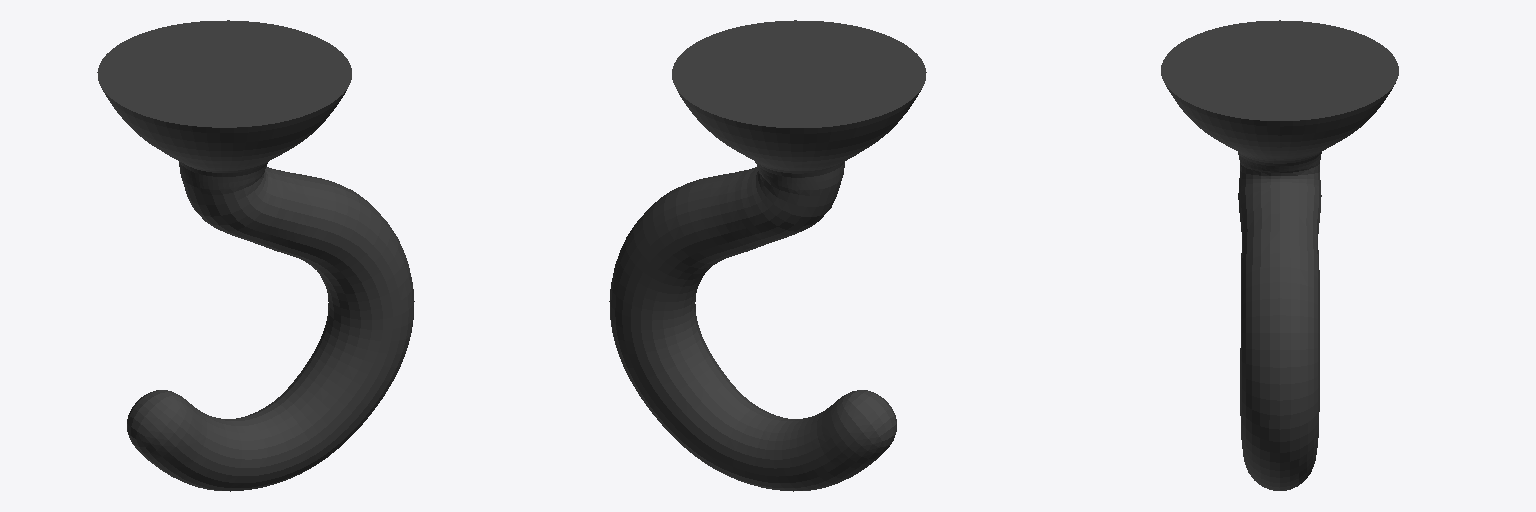
The robot description file, URDF, robot "test_gripper":
<?xml version="1.0"?>
<robot name="test_gripper" xmlns:xacro="http://www.ros.org/wiki/xacro">

  <link name="world" />

  <joint name="joint" type="prismatic">
    <origin xyz="0 0 0" rpy="3.14 0 0" />
    <parent link="world" />
    <child link="gripper" />
    <axis xyz="0 0 1" />
    <limit effort="300" velocity="1.0" lower="-1" upper="1" />
    <dynamics damping="0.0" />
  </joint>

  <link name="gripper">
    <inertial>
      <origin xyz="0 0 0" rpy="0 0 0" />
      <mass value="1" />
      <inertia ixx="0.01" ixy="0" ixz="0" iyy="0.01" iyz="0" izz="0.01" />
    </inertial>
    <visual>
      <origin xyz="0 0 0" rpy="0 0 0" />
      <geometry>
        <!-- <cylinder radius="0.05" length="0.1" /> -->
        <mesh filename="package://hook_gripper_gazebo/meshes/hook_gripper.dae"/>
      </geometry>
      <material name="Grey">
        <color rgba="0.3 0.3 0.3 1.0" />
      </material>
    </visual>
    <collision>
      <origin xyz="0 0 0" rpy="0 0 0" />
      <geometry>
        <!-- <cylinder radius="0.05" length="0.1" /> -->
        <mesh filename="package://hook_gripper_gazebo/meshes/hook_gripper.dae"/>
      </geometry>
    </collision>
  </link>

  <transmission name="trans">
    <type>transmission_interface/SimpleTransmission</type>
    <joint name="joint">
      <hardwareInterface>hardware_interface/PositionJointInterface</hardwareInterface>
    </joint>
    <actuator name="motor">
      <mechanicalReduction>1</mechanicalReduction>
    </actuator>
  </transmission>

  <gazebo reference="gripper">
    <material>Gazebo/Green</material>
    <mu1>0.0</mu1>
    <mu2>0.0</mu2>
    <kp>0</kp>
    <kd>0</kd>
  </gazebo>


  <gazebo>
    <plugin name="hook_gripper" filename="libhook_gripper_gazebo.so">
      <gripper_robot_name>test_gripper</gripper_robot_name>
      <gripper_link_name>gripper</gripper_link_name>
      <objects_robot_name>box</objects_robot_name>
      <objects_link_name>box1</objects_link_name>
      <min_collision_depth>0.001</min_collision_depth>
    </plugin>
  </gazebo>

  <gazebo>
    <plugin name="ros_control" filename="libgazebo_ros_control.so">
      <robotParam>robot_description</robotParam>
    </plugin>
  </gazebo>

</robot>

--- Facts derived from the render (not from the file) ---
3 views of the same robot in one strip: view 1: azimuth 30°, elevation 25°; view 2: azimuth 150°, elevation 25°; view 3: azimuth 270°, elevation 25° (orthographic).
Robot: test_gripper — 2 links, 1 joints (1 prismatic); root link world; default pose: all joints at 0.
Visible links, largest first — view 1: gripper; view 2: gripper; view 3: gripper.
Link boxes in pixels (x1,y1,x2,y2): gripper: (97, 20, 414, 491); gripper: (609, 20, 926, 491); gripper: (1161, 20, 1398, 490).
Bounding box of the posed robot: 0.0706 × 0.0529 × 0.0958 m (x, y, z).
Meshes: 1 distinct files referenced, 1 mesh visuals loaded (1 Collada DAE).